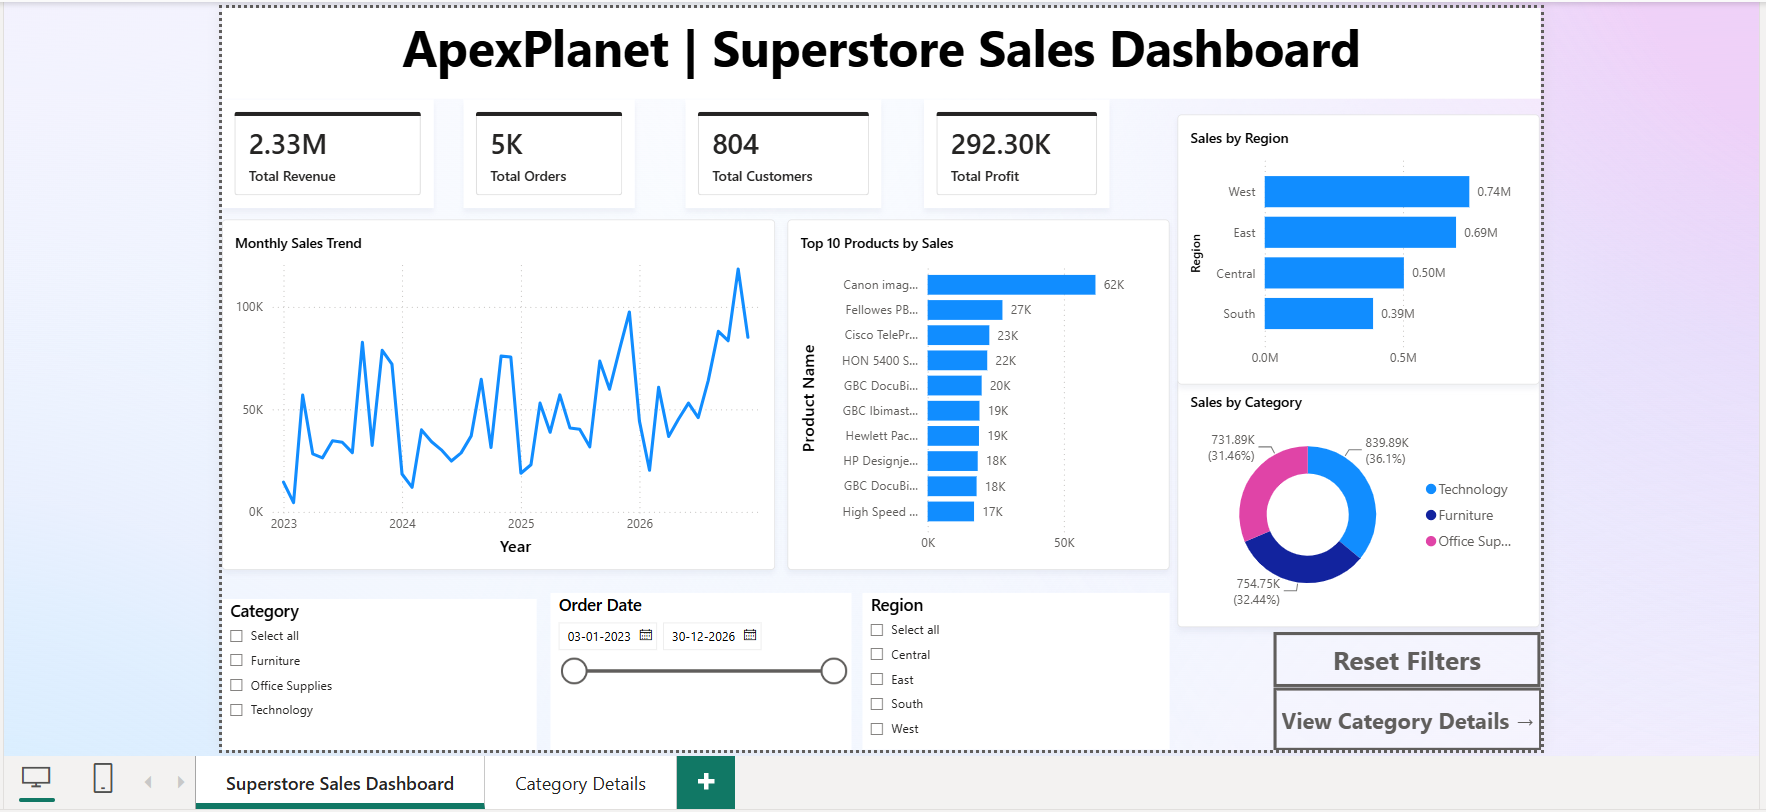

The dashboard page shown, as its layout file describes it:
{"tool":"powerbi","page":{"name":"Superstore Sales Dashboard","canvas":[1280,720],"ordinal":0},"visuals":[{"type":"cardVisual","fields":{"Data":["cleaned_superstore.Total Revenue"]},"box":[0,88.3,205,105],"z":0},{"type":"cardVisual","fields":{"Data":["cleaned_superstore.Total Orders"]},"box":[235,88.3,166.7,105],"z":1000},{"type":"cardVisual","fields":{"Data":["cleaned_superstore.Total Customers"]},"box":[450,88.3,190,105],"z":2000},{"type":"cardVisual","fields":{"Data":["cleaned_superstore.Total Profit"]},"box":[681.7,88.3,180,105],"z":3000},{"type":"lineChart","title":"Monthly Sales Trend","fields":{"Y":["Sum(cleaned_superstore.Sales)"],"Category":["cleaned_superstore.Order Date.Variation.Date Hierarchy.Year","cleaned_superstore.Order Date.Variation.Date Hierarchy.Month"]},"box":[0,205,536.7,340],"z":4000},{"type":"donutChart","title":"Sales by Category","fields":{"Category":["cleaned_superstore.Category"],"Y":["Sum(cleaned_superstore.Sales)"]},"box":[927.8,359.5,351.4,241.3],"z":5000},{"type":"clusteredBarChart","title":"Sales by Region","fields":{"Category":["cleaned_superstore.Region"],"Y":["Sum(cleaned_superstore.Sales)"]},"box":[927.8,103.6,351.4,262.3],"z":6000},{"type":"clusteredBarChart","title":"Top 10 Products by Sales","fields":{"Category":["cleaned_superstore.Product Name"],"Y":["Sum(cleaned_superstore.Sales)"]},"box":[548.9,205.6,370.8,340],"z":7000},{"type":"slicer","fields":{"Values":["cleaned_superstore.Category"]},"box":[0,572.9,305.1,147.5],"z":8000},{"type":"slicer","fields":{"Values":["cleaned_superstore.Region"]},"box":[621.8,568.3,297.9,152.2],"z":9000},{"type":"slicer","fields":{"Values":["cleaned_superstore.Order Date"]},"box":[318.6,567.8,291.5,152.5],"z":10000},{"type":"actionButton","box":[1020.1,659,260.7,61.5],"z":11000},{"type":"textbox","box":[0,0,1279.7,88.1],"z":12000},{"type":"actionButton","box":[1020.1,605.6,259.1,53.4],"z":12001}]}

Visuals, with their boxes on the page's 1280x720 design canvas (x1, y1, x2, y2). These are canvas units, not pixel positions in the 1766x812 screenshot, which may show the page scaled, cropped or inside an application window:
cardVisual - cleaned_superstore.Total Revenue: select_region(0, 88, 205, 193)
cardVisual - cleaned_superstore.Total Orders: select_region(235, 88, 402, 193)
cardVisual - cleaned_superstore.Total Customers: select_region(450, 88, 640, 193)
cardVisual - cleaned_superstore.Total Profit: select_region(682, 88, 862, 193)
"Monthly Sales Trend" lineChart: select_region(0, 205, 537, 545)
"Sales by Category" donutChart: select_region(928, 360, 1279, 601)
"Sales by Region" clusteredBarChart: select_region(928, 104, 1279, 366)
"Top 10 Products by Sales" clusteredBarChart: select_region(549, 206, 920, 546)
slicer - cleaned_superstore.Category: select_region(0, 573, 305, 720)
slicer - cleaned_superstore.Region: select_region(622, 568, 920, 720)
slicer - cleaned_superstore.Order Date: select_region(319, 568, 610, 720)
actionButton: select_region(1020, 659, 1281, 720)
textbox: select_region(0, 0, 1280, 88)
actionButton: select_region(1020, 606, 1279, 659)
